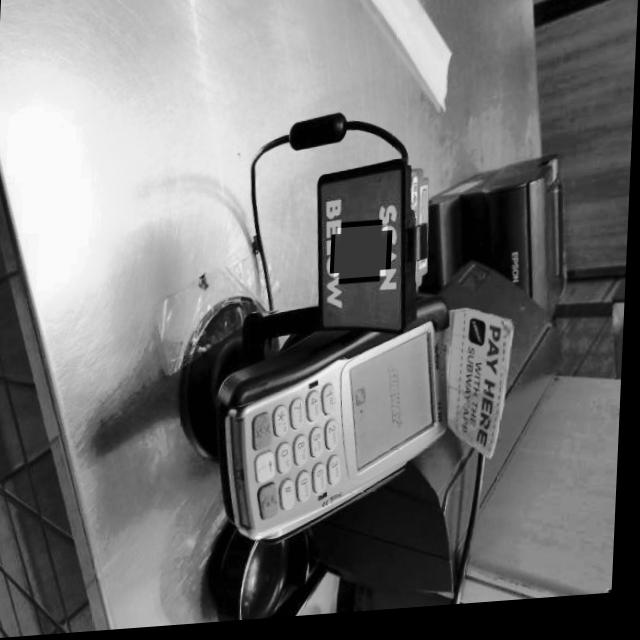qr_code: (335, 231, 389, 285)
